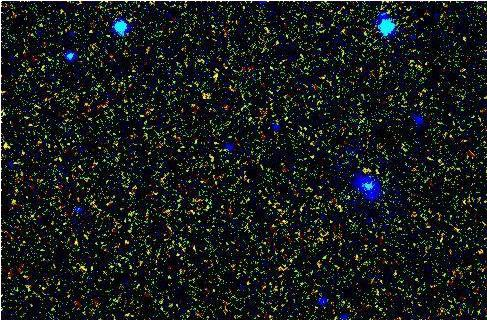star: (351, 158, 381, 188)
